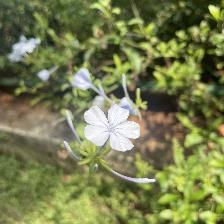chitrak: (84, 101, 143, 156)
